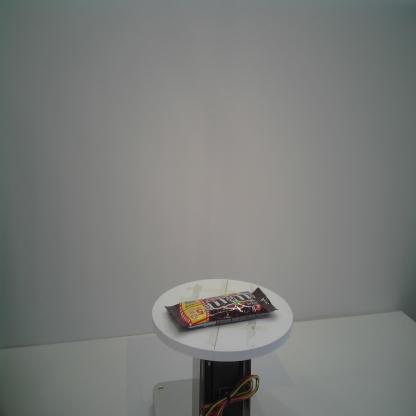Chocolate: (164, 287, 279, 329)
